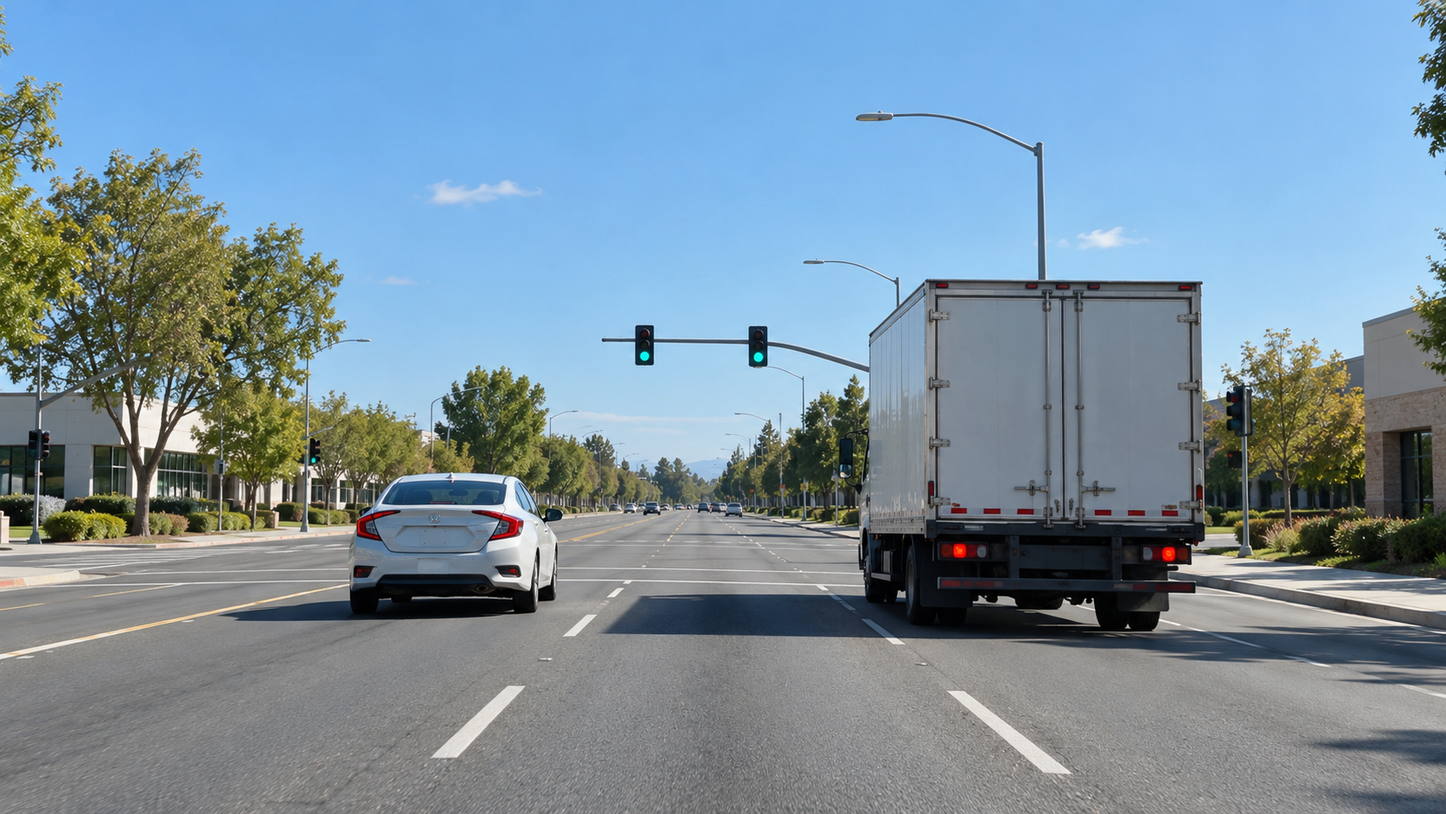car: (349, 474, 561, 616)
traffic_light: (1228, 388, 1251, 442), (749, 324, 770, 367), (636, 324, 655, 366), (29, 428, 49, 467), (306, 409, 324, 442)
truck: (867, 280, 1210, 630)
